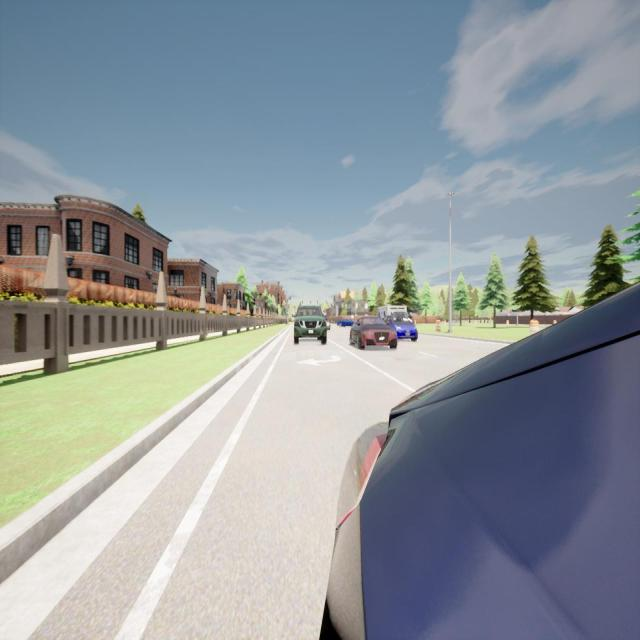Vehicle: (326, 284, 640, 638), (350, 316, 398, 349), (292, 305, 327, 345), (384, 315, 418, 341), (377, 306, 413, 323), (337, 319, 354, 327), (326, 320, 330, 330)
